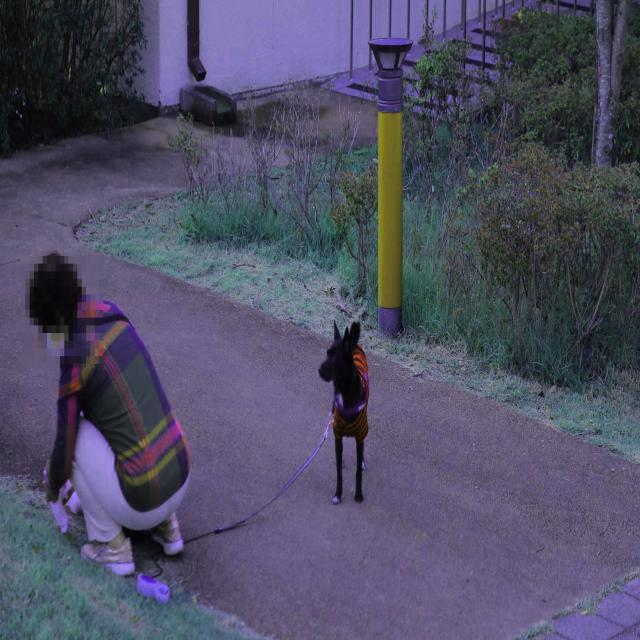Leashed_Dog: (135, 316, 370, 556)
